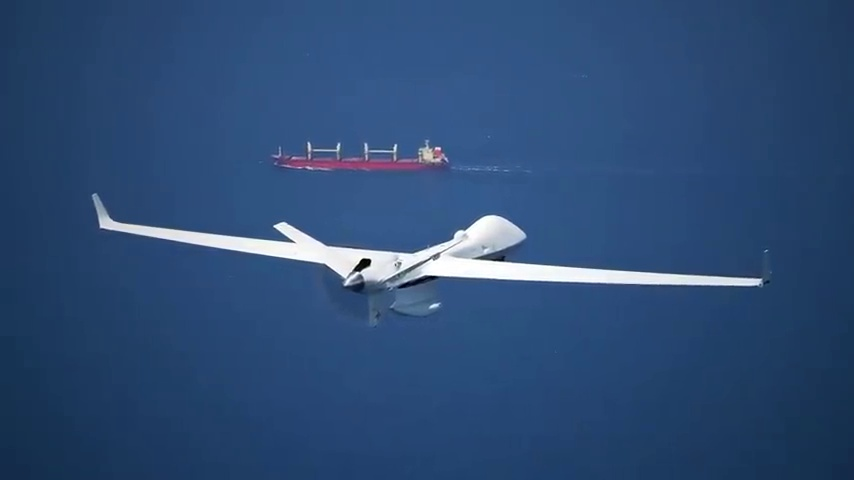military drone: (92, 193, 773, 329)
